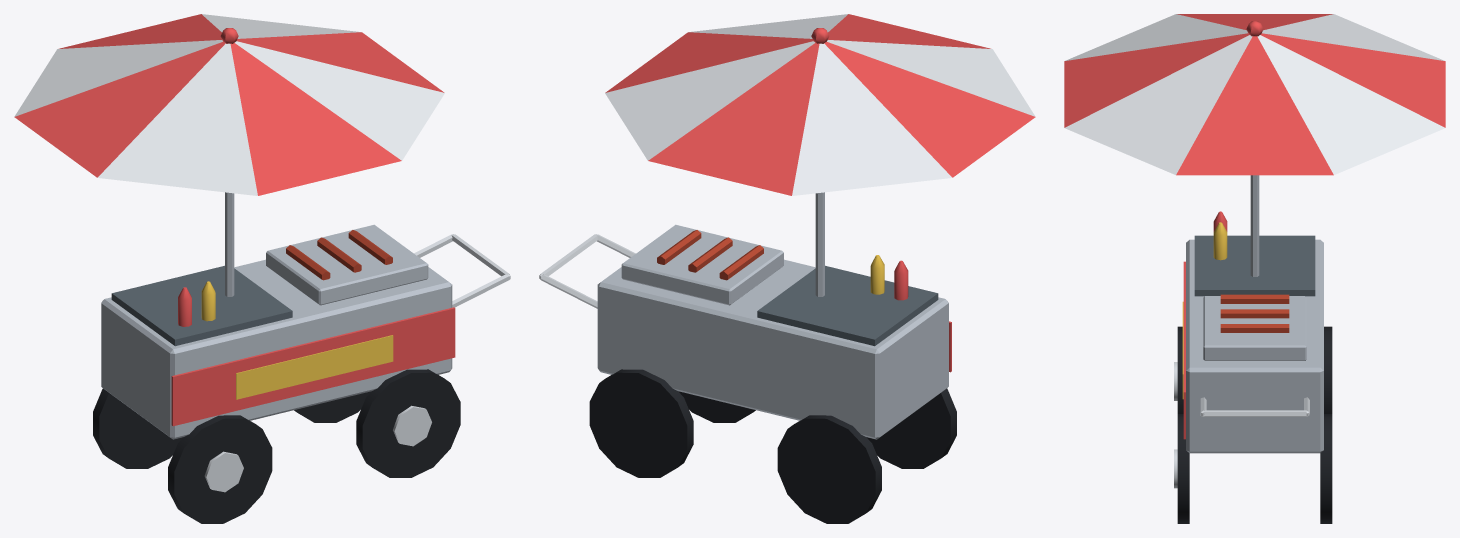
File: hotdog_cart.glb
3 views of the same model, side by side, from view 1: azimuth 30°, elevation 25°; view 2: azimuth 150°, elevation 25°; view 3: azimuth 270°, elevation 25° (orthographic). The views are drawn at different scales.
Parts seen in each view (by area): view 1: hotdog_cart; view 2: hotdog_cart; view 3: hotdog_cart.
Boxes of the visible parts, left/top/right/bottom form: hotdog_cart: left=14, top=14, right=510, bottom=523; hotdog_cart: left=539, top=14, right=1035, bottom=523; hotdog_cart: left=1064, top=14, right=1445, bottom=523.
Size of the model in its own units: 2.73 by 2.77 by 2.22.
